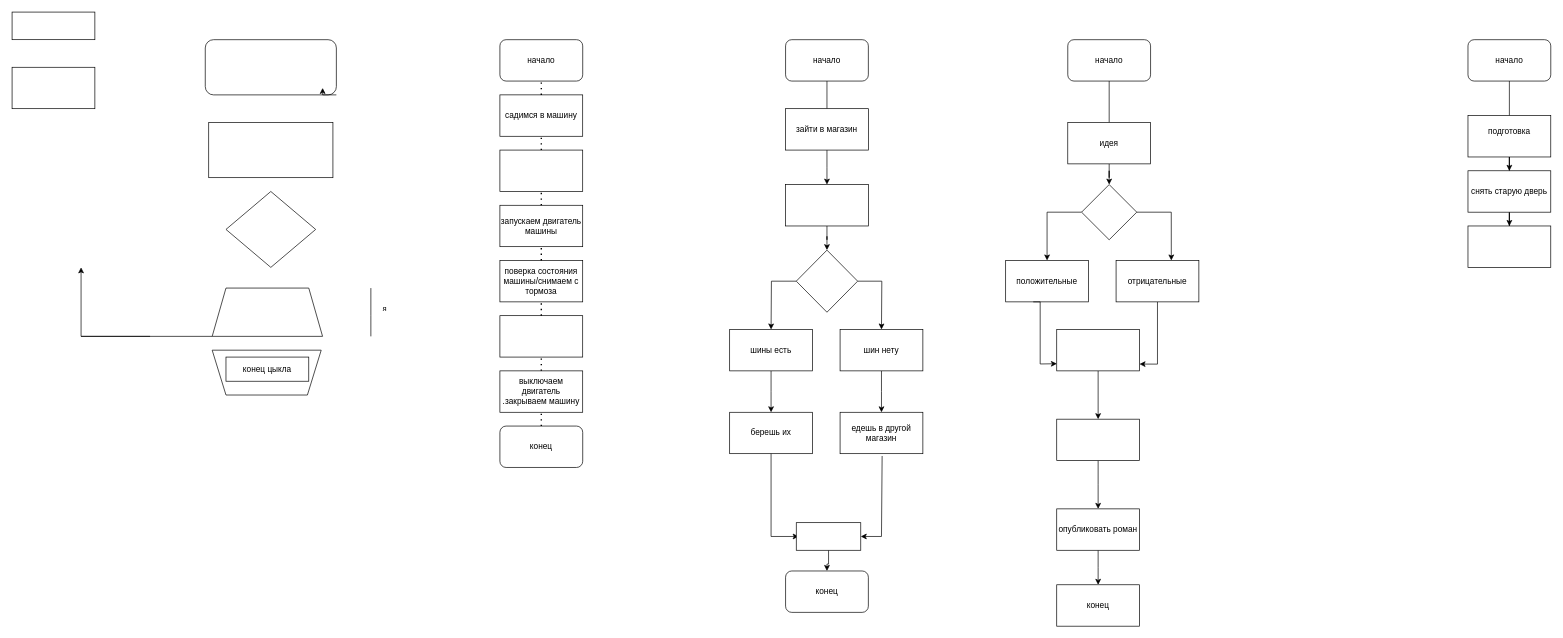
The diagram is 1563 pixels wide and 638 high, and some of its shapes have lost their labels. Here are the shapes that lost their labels. From the top down, the centre of each, then its label:
point (270, 67): начало/конец
point (270, 150): действие/операция
point (541, 170): вставляем ключ зажигания
point (826, 205): спросить есть ли шины нужного размера
point (1109, 212): разработка персонажей
point (270, 229): условие
point (827, 280): есть шины/нету шин
point (267, 311): начало цыкла
point (541, 336): начинаем движение
point (1098, 350): построение сюжета
point (1098, 439): написание романа на черновик
point (828, 536): купить шины
